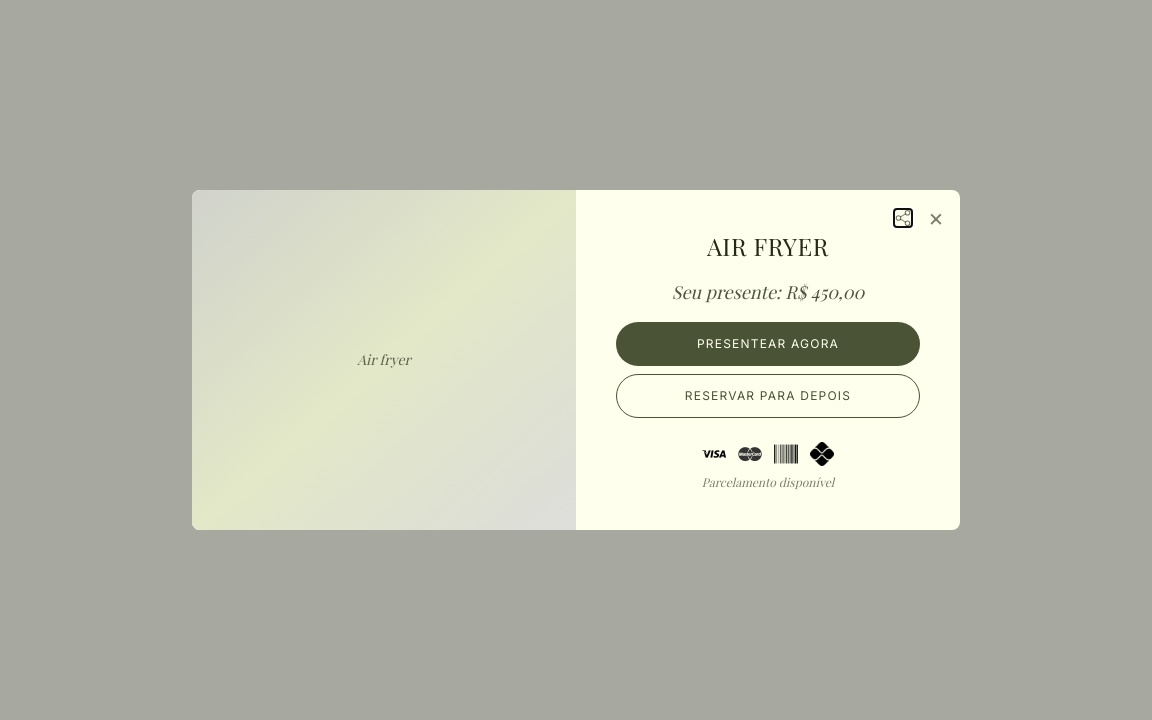
Test: GiftDetailsModal › shows the error message returned by the action when the immediate contribution fails
This screenshot has width=1152, height=720.
Click the button "Presentear agora" at {"x": 768, "y": 344}, box [616,322,920,366]
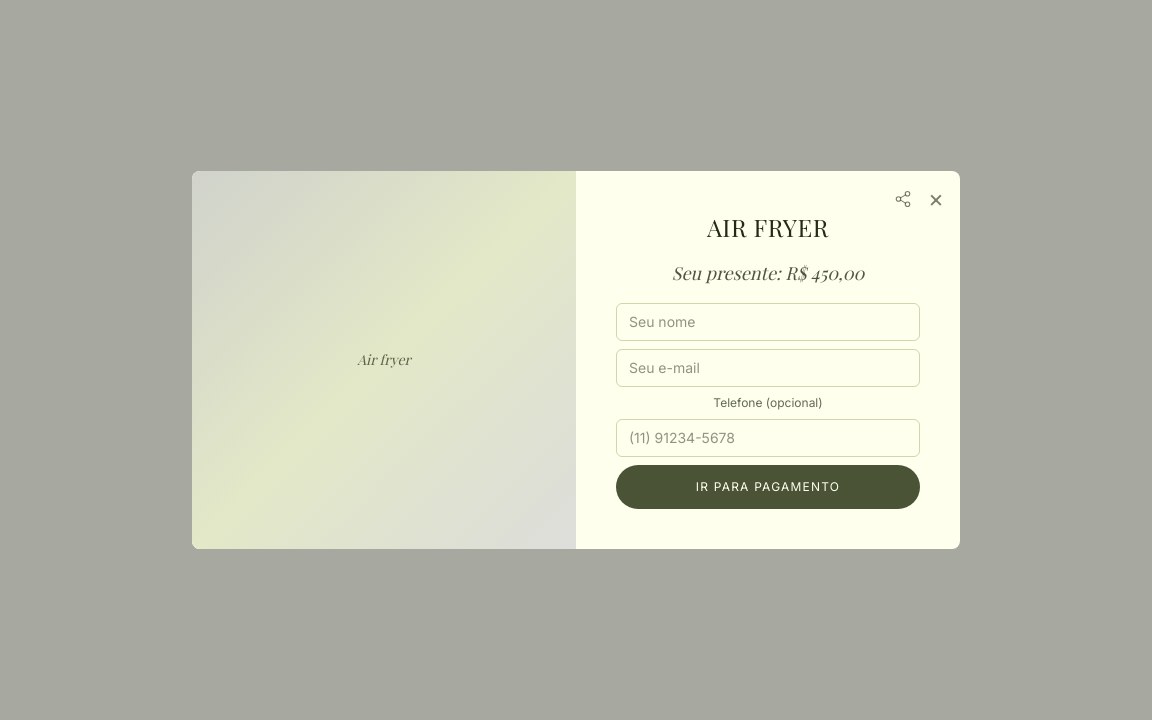
Type "Carla Nunes" into the field with placeholder "Seu nome" at {"x": 768, "y": 322}, box [616,303,920,341]
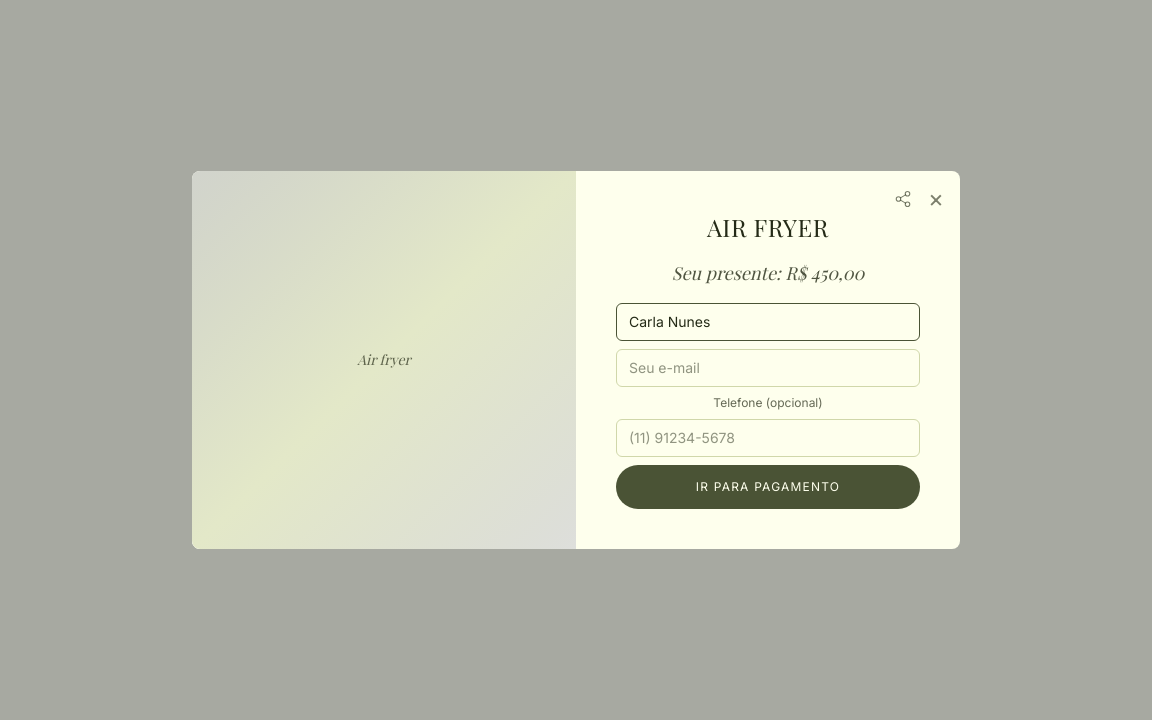
Type "carla@example.com" into the field with placeholder "Seu e-mail" at {"x": 768, "y": 368}, box [616,349,920,387]
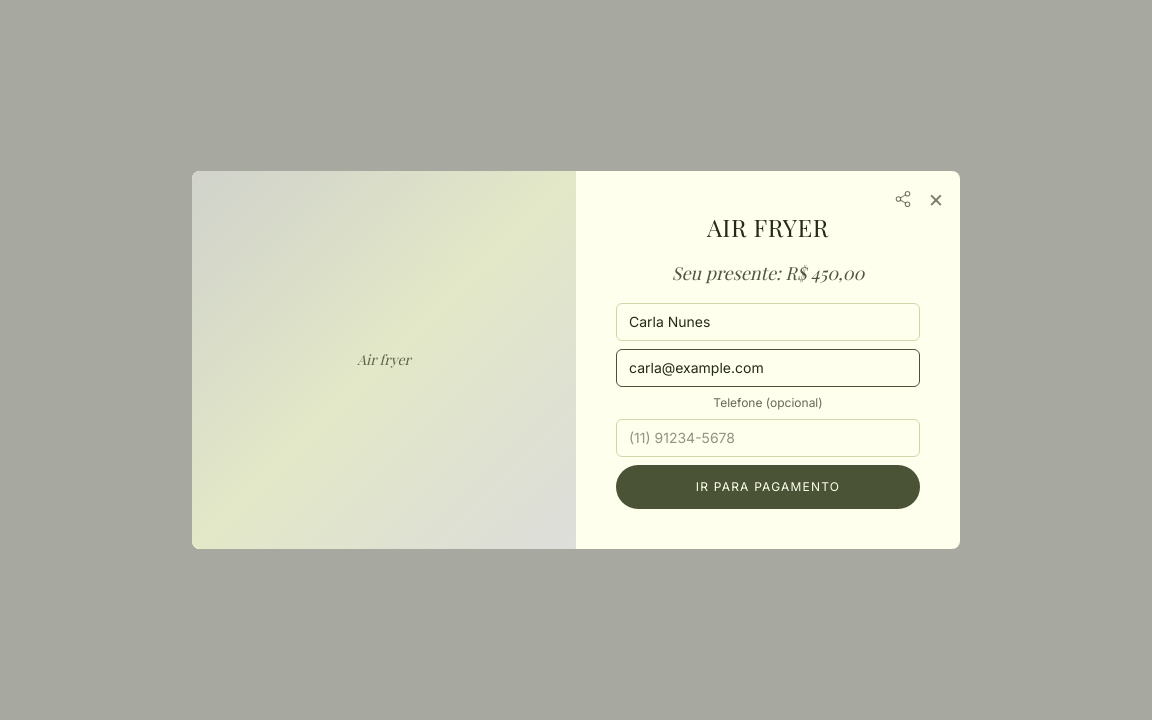
Click the button "Ir para pagamento" at {"x": 768, "y": 487}, box [616,465,920,509]
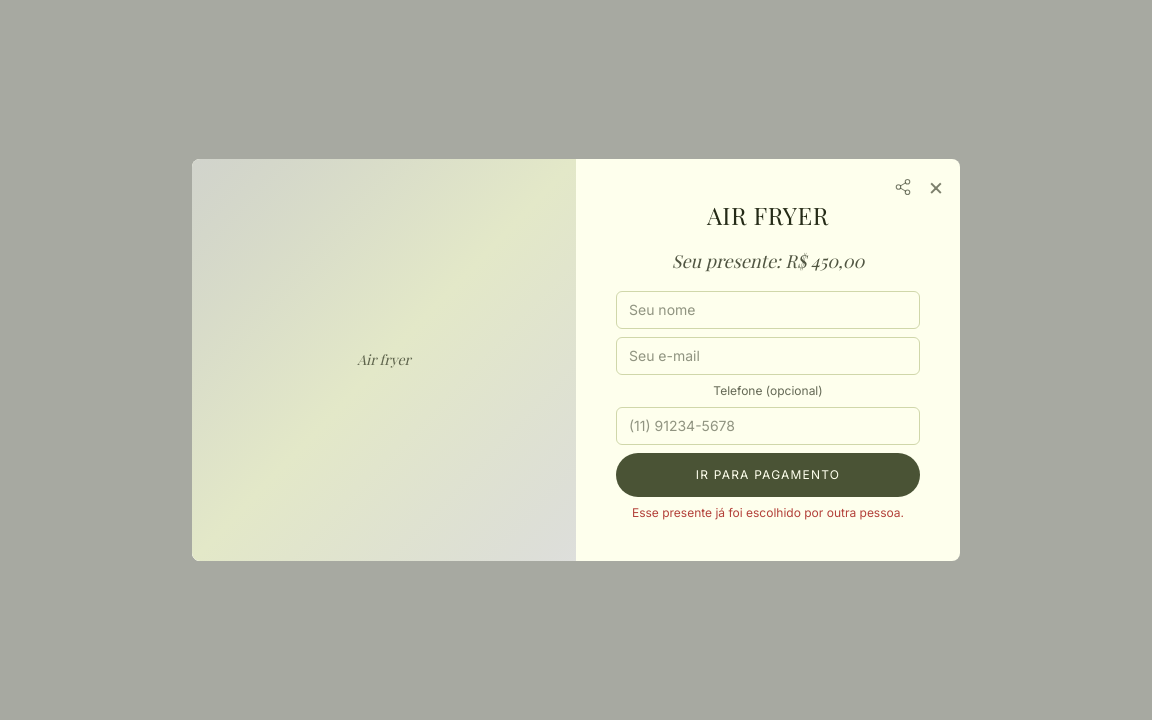
Now the message reads "Esse presente já foi escolhido por outra pessoa.", box [632,505,904,520]
